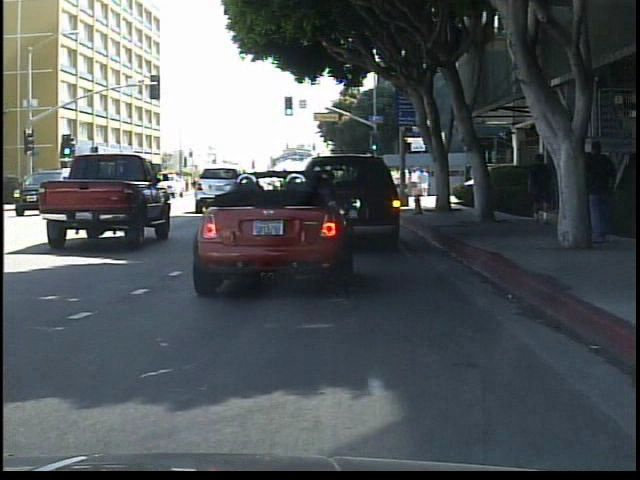person: (585, 136, 625, 245), (524, 149, 560, 230), (148, 171, 167, 199)
